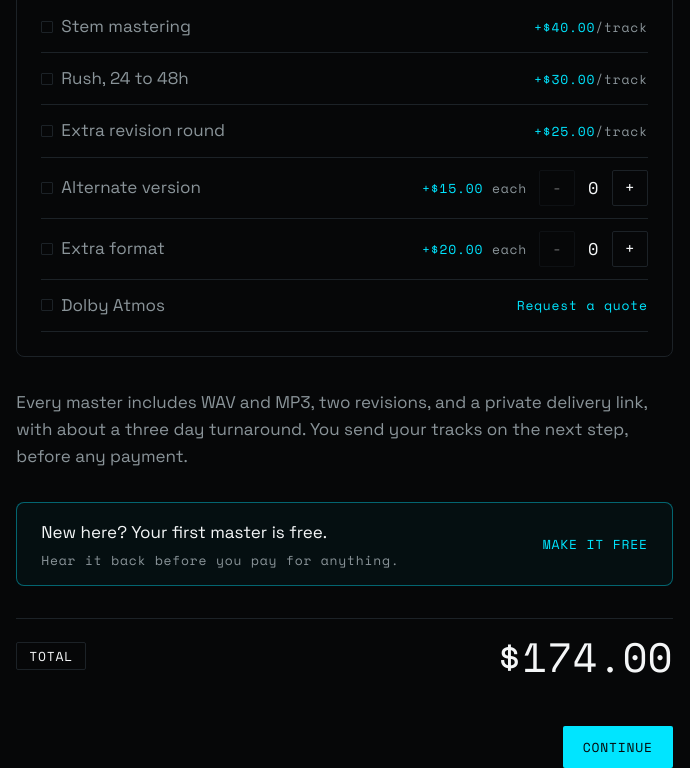
Test case: CheckoutFlow › caps the cart to one track and reads Free when the first master is claimed
(page scrolled)
Click the button named "Make it free" at point(184, 532), box [16,502,673,586]
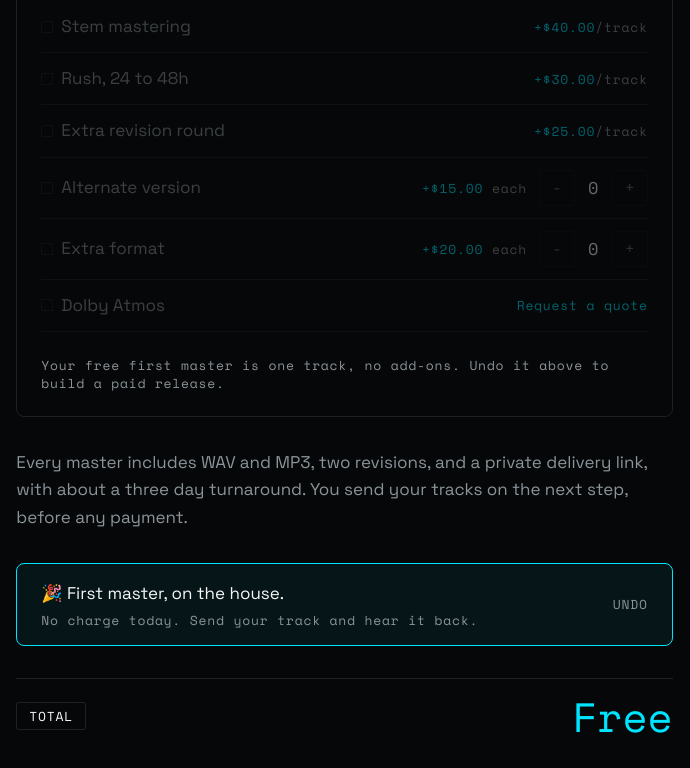
Expected: the text "Free" is shown, [572,695,673,738]
